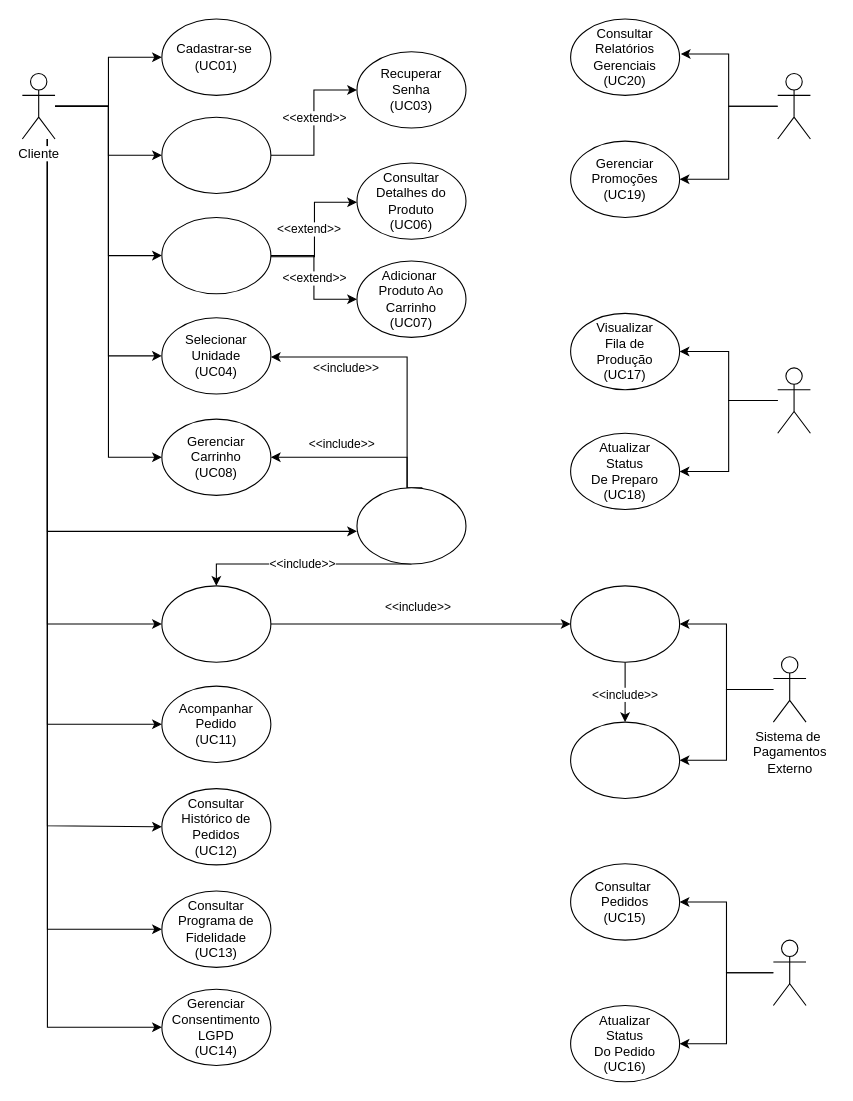
Some shapes in this 853 by 1101 pixel diagram are drawn without their labels. Here are the shapes that lost their labels. From the top down, the centre of each, then its label:
At point (793, 105): "Administrador".
At point (216, 154): "Fazer Login (UC02)".
At point (216, 255): "Visualizar Cardápio (UC05)".
At point (793, 400): "Cozinha".
At point (411, 525): "Realizar Pedido (UC09)".
At point (216, 623): "Efetuar Pagamento (UC10)".
At point (625, 623): "Processar Pagamento (UC21)".
At point (625, 759): "Retornar Status Do Pagamento (UC22)".
At point (789, 972): "Atendente".
